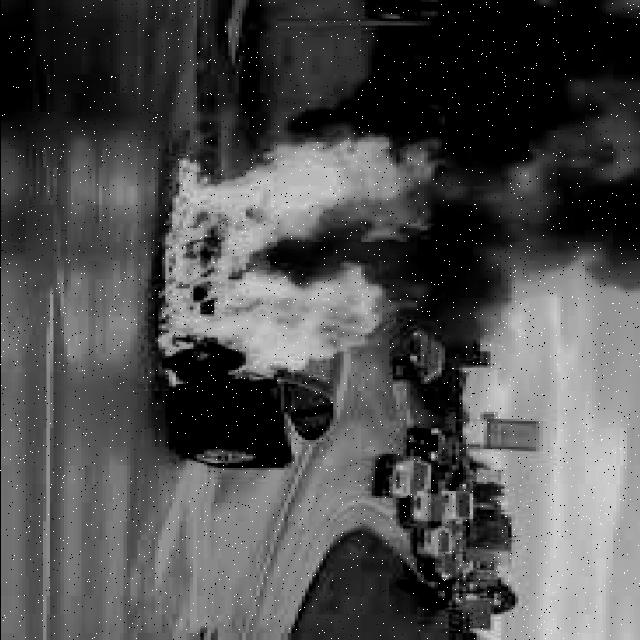api: (145, 110, 453, 392)
